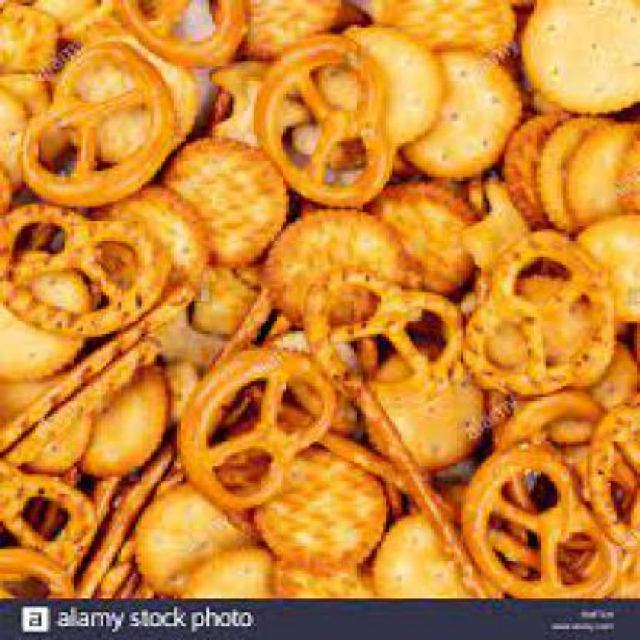Salatini packaged: (3, 6, 634, 588)
